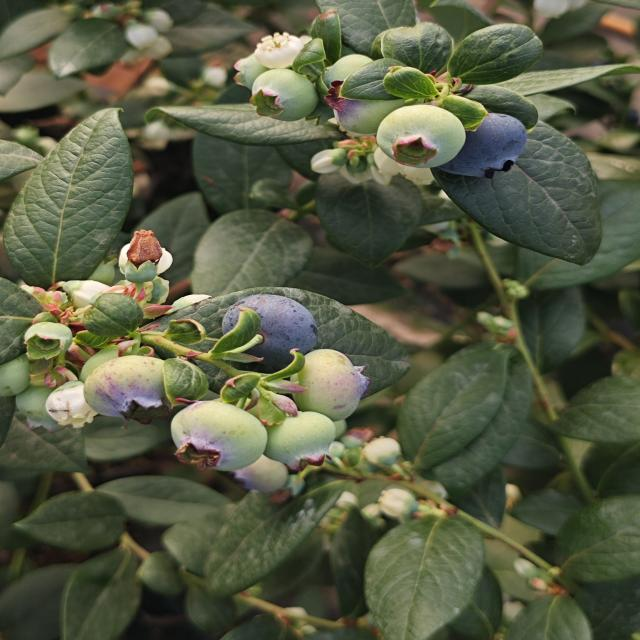ripe: (218, 292, 321, 375), (434, 111, 530, 181)
